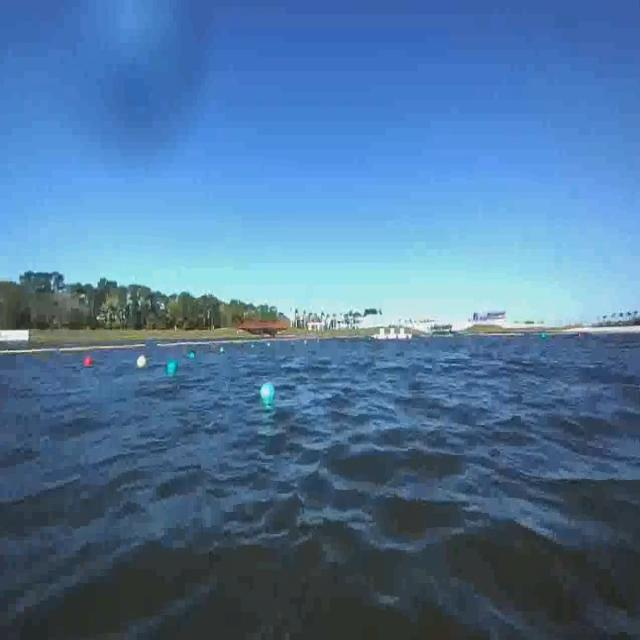green-buoy: (262, 381, 277, 400), (168, 359, 179, 375)
red-buoy: (83, 356, 93, 368)
yellow-buoy: (137, 356, 148, 368)
